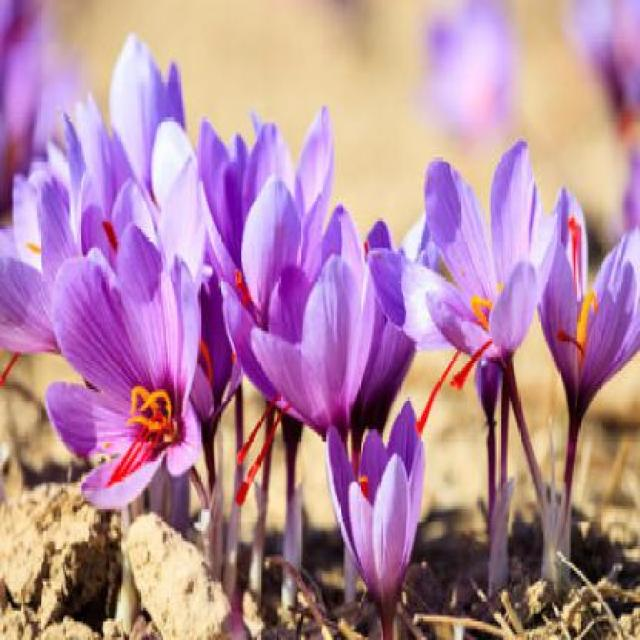Flower: (381, 122, 548, 363), (46, 252, 202, 503), (225, 214, 368, 440), (323, 409, 439, 631), (542, 208, 638, 432)
stigma: (231, 398, 295, 509), (412, 341, 466, 441), (106, 415, 174, 490), (232, 397, 284, 468), (446, 335, 498, 394), (566, 215, 585, 301)
